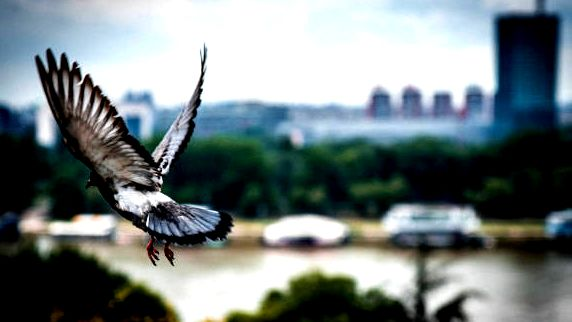Bird: (34, 34, 234, 271)
